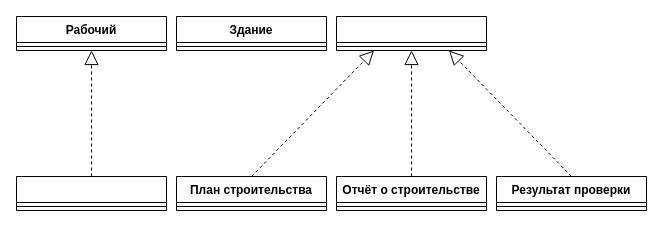
Some shapes in this 663 by 227 pixel diagram are drawn without their labels. The box of each missing label's shape, as (x1, y1, x2, y2) in pixels:
Документ: (336, 16, 486, 50)
Строитель: (16, 176, 166, 210)
